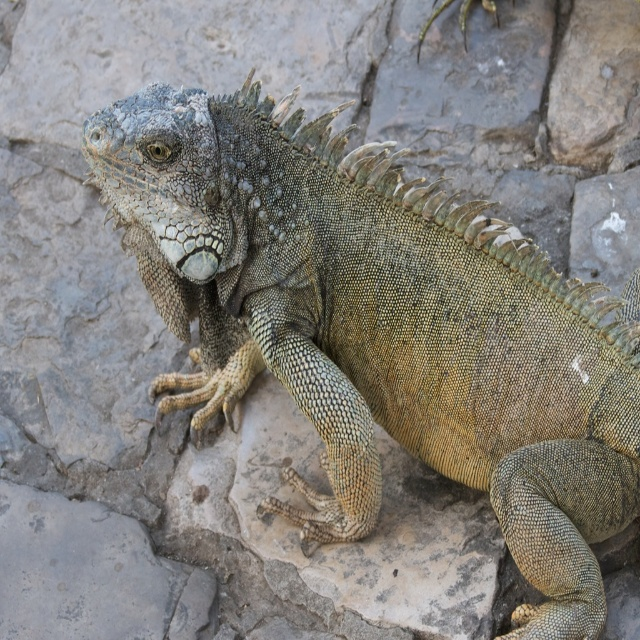Lizard: (85, 59, 632, 640)
